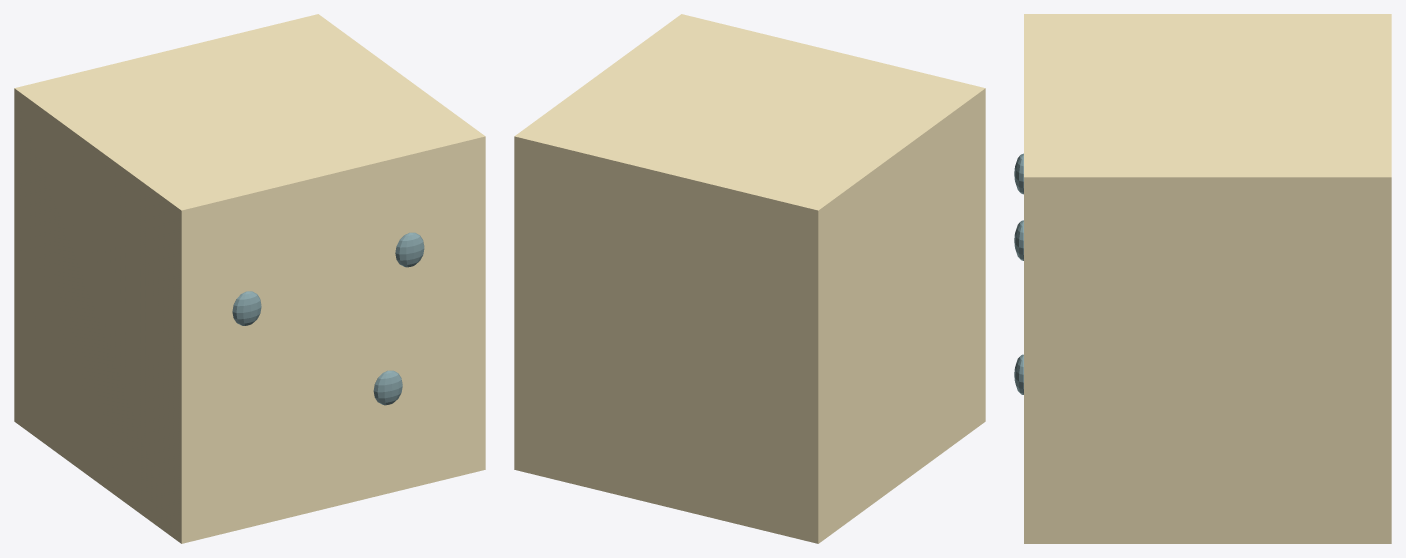
Rendered from haste.glb.
The picture shows the model from 3 angles, left to right: view 1: azimuth 30°, elevation 25°; view 2: azimuth 150°, elevation 25°; view 3: azimuth 270°, elevation 25°; orthographic projection. The views are drawn at different scales.
Visible parts, largest first — view 1: Sugar cube, Grain.001, Grain.002, Grain; view 2: Sugar cube; view 3: Sugar cube.
Boxes of the visible parts, bbox=[...] form: Sugar cube: bbox=[14, 14, 485, 543]; Grain.001: bbox=[373, 370, 402, 405]; Grain.002: bbox=[395, 232, 424, 267]; Grain: bbox=[232, 291, 261, 325]; Sugar cube: bbox=[514, 14, 985, 543]; Sugar cube: bbox=[1024, 14, 1391, 543].
Size of the model in its own units: 0.84 by 0.88 by 0.821.
